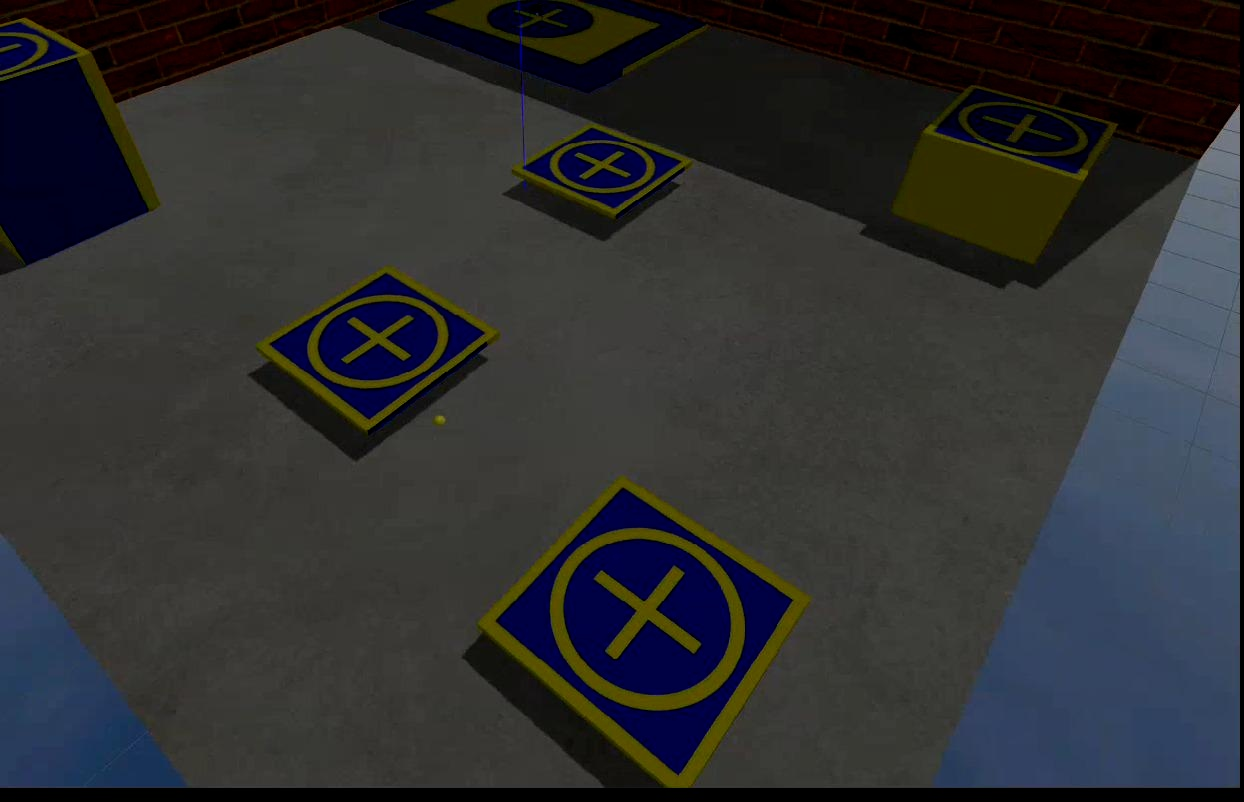large_base: (378, 1, 714, 94)
small_base: (479, 476, 810, 791), (255, 267, 501, 437), (919, 82, 1121, 188), (512, 120, 694, 223), (0, 19, 97, 87)
